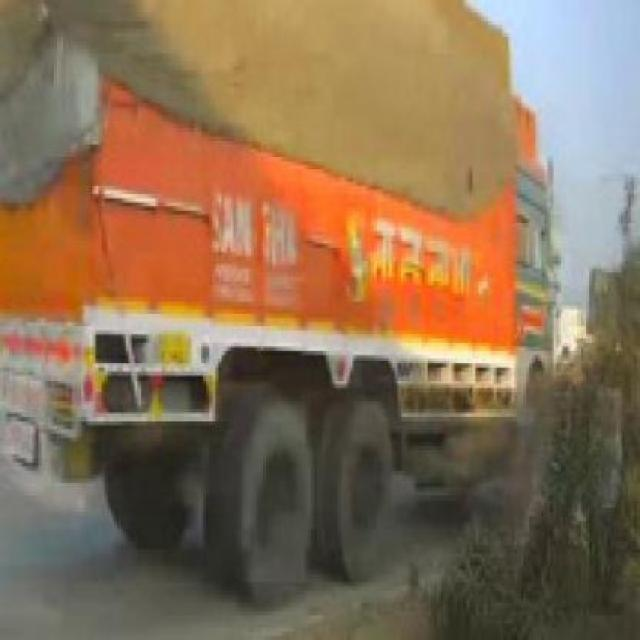vehicle: (0, 0, 575, 611)
